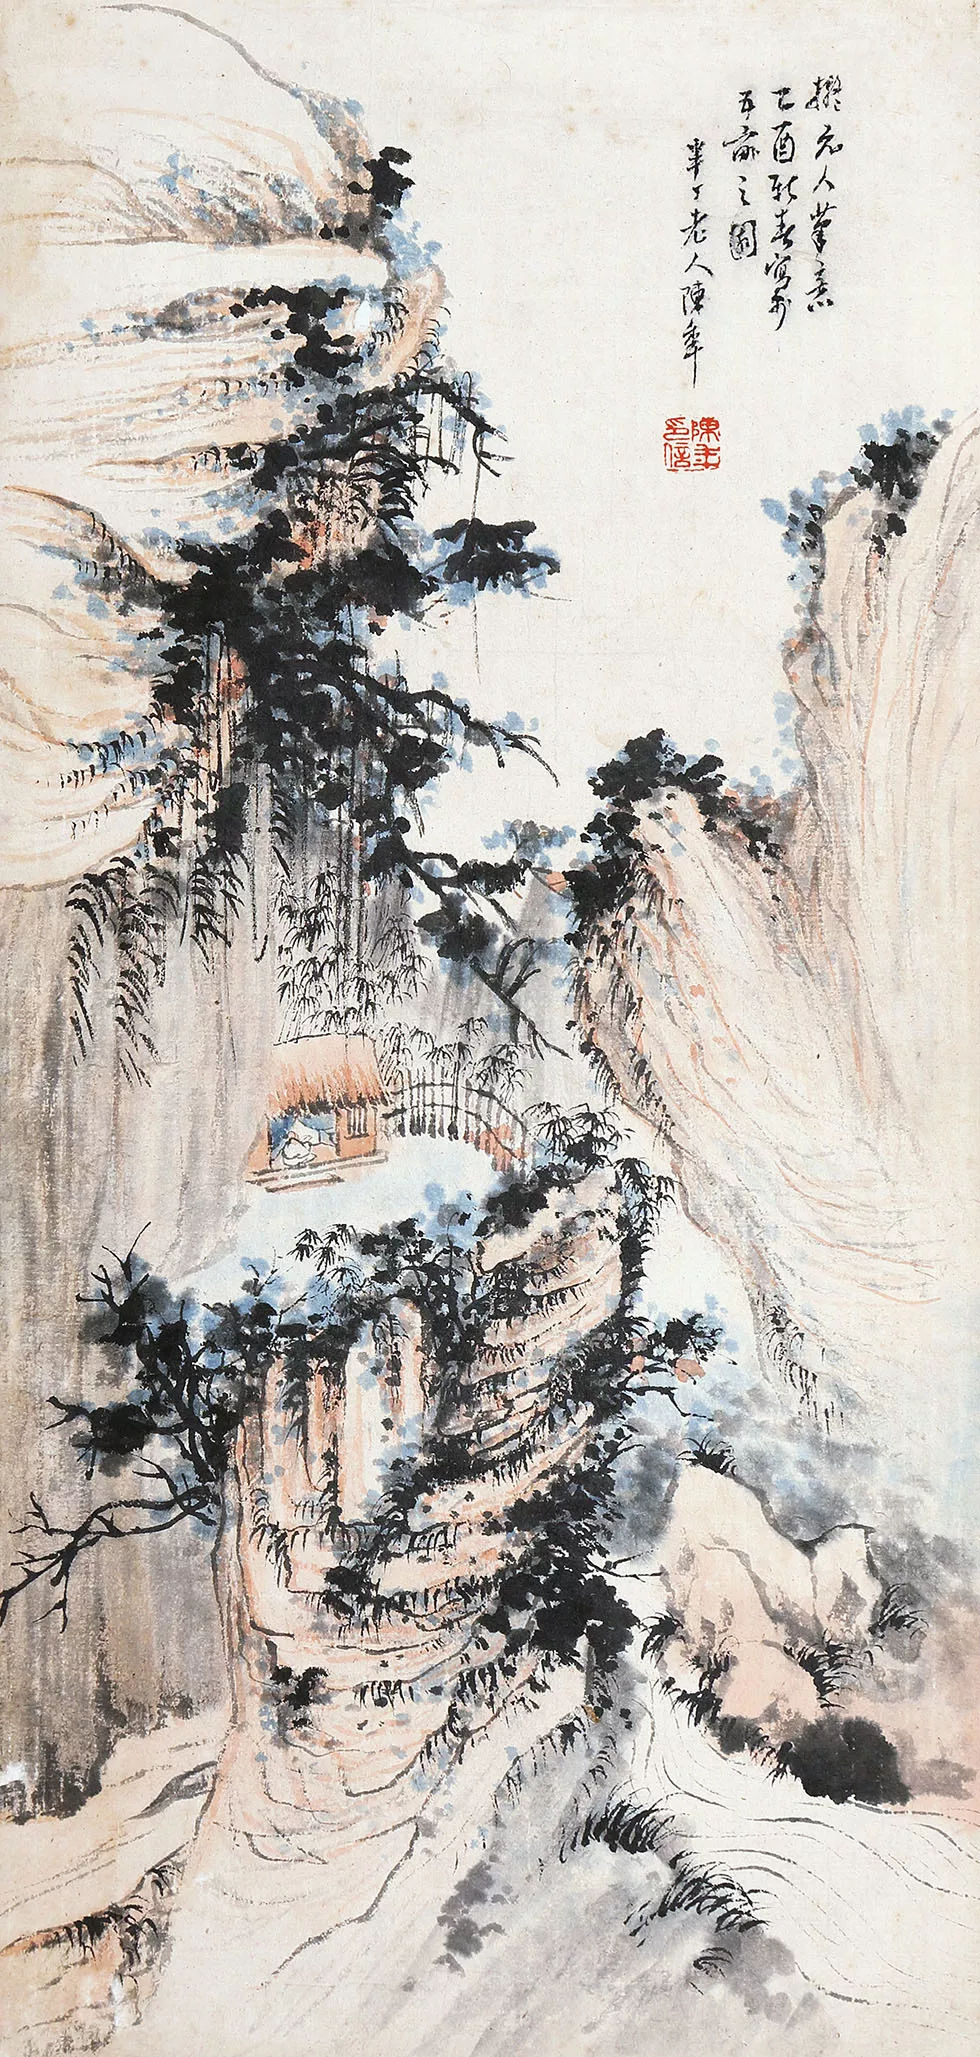house: (243, 1027, 403, 1175)
mountain: (581, 418, 980, 1484), (1, 13, 429, 908), (247, 1189, 643, 1938)
pine: (230, 365, 548, 870), (52, 1252, 247, 1549)
